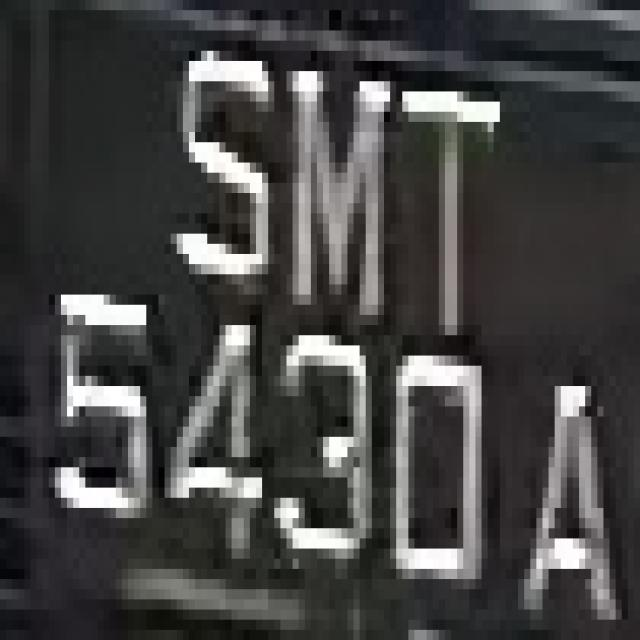0: (372, 346, 488, 610)
3: (262, 274, 378, 579)
4: (152, 294, 268, 569)
5: (55, 254, 158, 528)
A: (5, 6, 6, 10)
M: (268, 31, 402, 336)
S: (158, 10, 280, 325)
T: (378, 31, 512, 336)
